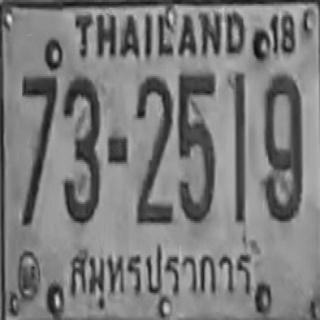N01: (232, 71, 246, 218)
N02: (135, 75, 172, 220), (135, 74, 172, 208)
N03: (62, 74, 100, 223)
N05: (176, 71, 215, 224)
N07: (21, 74, 57, 225), (21, 74, 57, 211), (21, 74, 57, 173)
N09: (262, 73, 302, 221)
P57: (64, 244, 258, 306)
